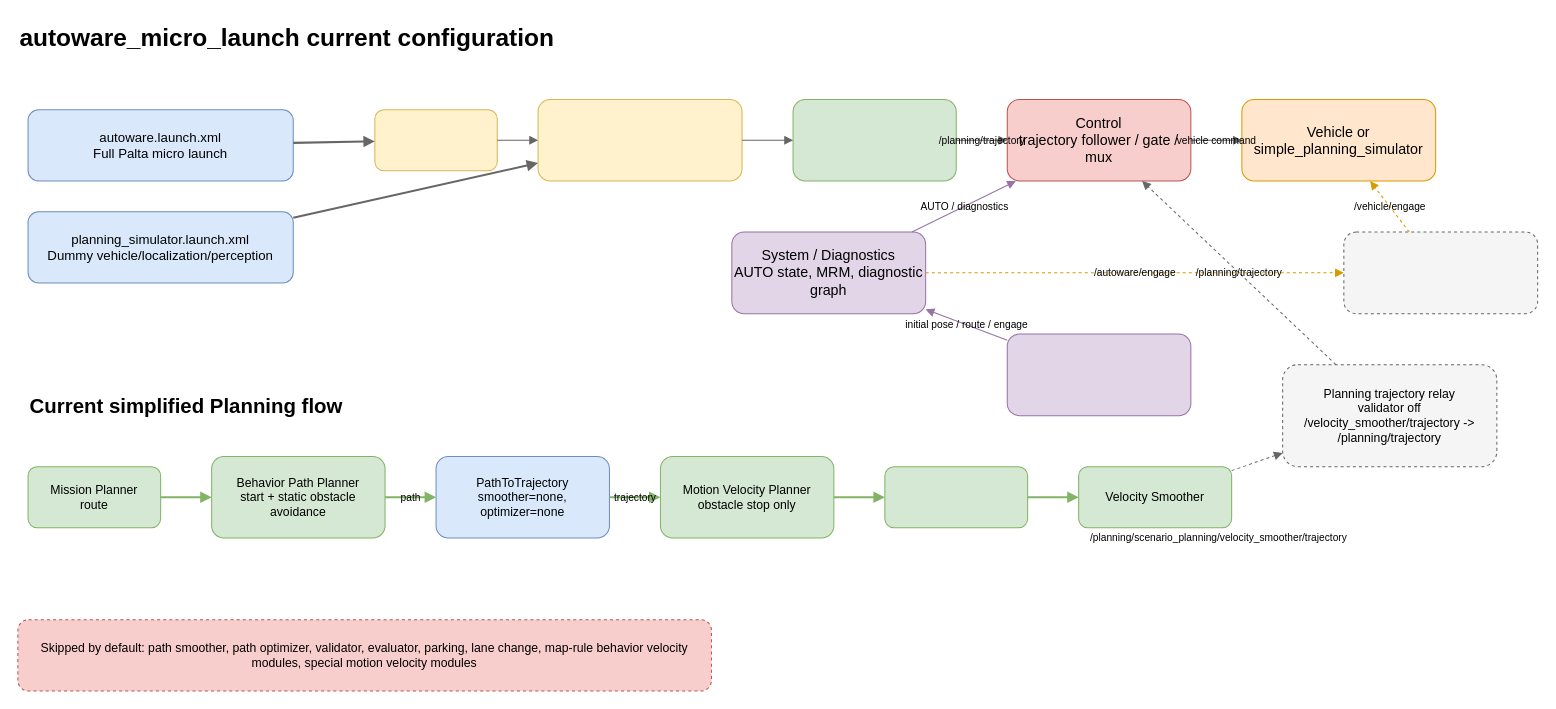
Some shapes in this 1556 by 709 pixel diagram are drawn without their labels. The box of each missing label's shape, as (x1, y1, x2, y2) in pixels:
Map: (374, 109, 497, 171)
Planning minimal defaults: (792, 98, 956, 181)
RViz / API initial pose, route, engage: (1006, 333, 1191, 416)
Scenario Selector: (884, 466, 1028, 528)
Sensing / Localization / Perception: (537, 98, 742, 181)
simulator_engage_relay /autoware/engage -> /vehicle/engage: (1343, 231, 1538, 314)
